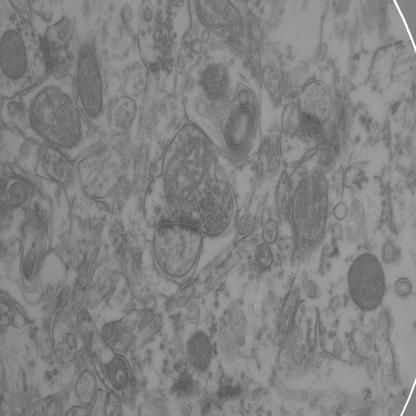mitochondria: (287, 166, 333, 250), (30, 84, 84, 152), (344, 251, 390, 316), (72, 40, 106, 121), (198, 55, 237, 111), (0, 22, 32, 86), (184, 327, 214, 374)
